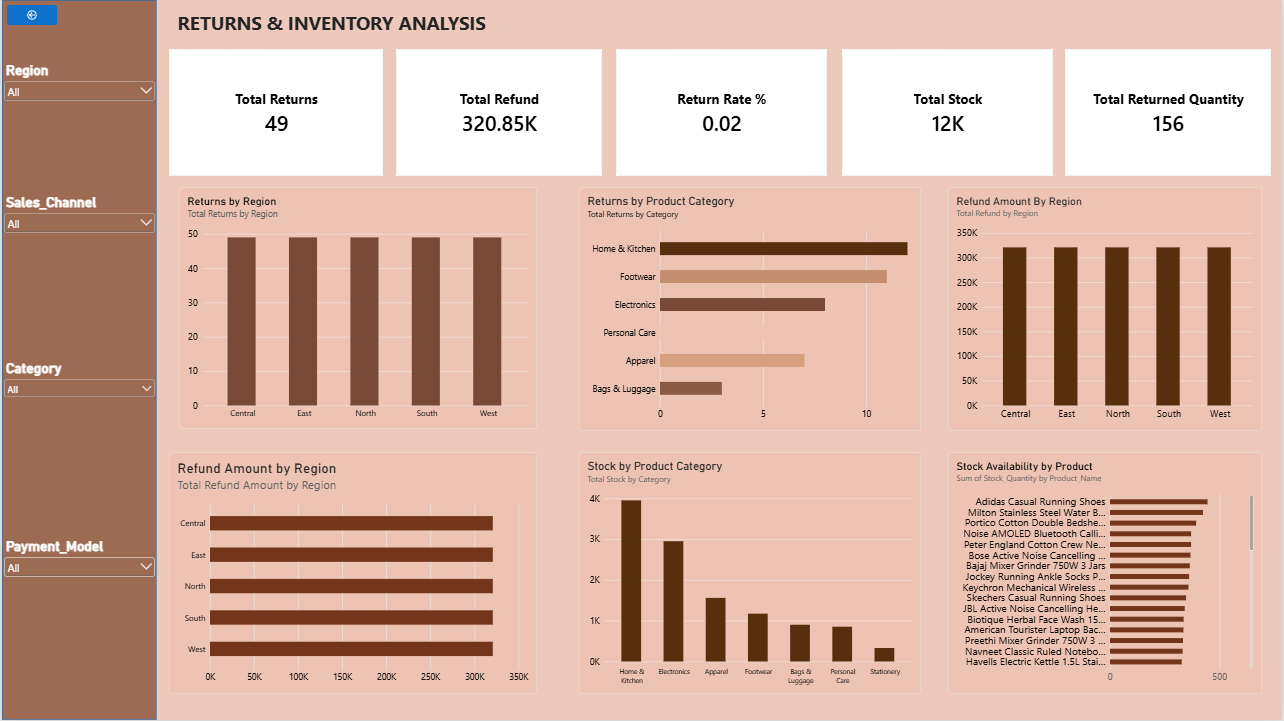

The dashboard page shown, as its layout file describes it:
{"tool":"powerbi","page":{"name":"Page 5","canvas":[2560,1440],"ordinal":4},"visuals":[{"type":"shape","box":[0,0,309.3,1439.5],"z":0},{"type":"actionButton","box":[10,10,100,40],"z":1},{"type":"textbox","box":[310,20,715,65],"z":2},{"type":"cardVisual","fields":{"Data":["Customer Data.Total Returns"]},"box":[334,98,428,254],"z":3},{"type":"cardVisual","fields":{"Data":["Customer Data.Total Refund"]},"box":[788,98,412,254],"z":4},{"type":"cardVisual","fields":{"Data":["Customer Data.Return Rate %"]},"box":[1228,98,422,254],"z":5},{"type":"cardVisual","fields":{"Data":["Customer Data.Total Stock"]},"box":[1680,98,422,254],"z":6},{"type":"cardVisual","fields":{"Data":["Customer Data.Total Returned Quantity"]},"box":[2126,98,412,254],"z":7},{"type":"barChart","title":"Returns by Product Category ","fields":{"Category":["Product Data.Category"],"Y":["Customer Data.Total Returns"]},"box":[1154,374,684,488],"z":8},{"type":"clusteredBarChart","title":"Refund Amount by Region ","fields":{"Category":["Orders Data.Region"],"Y":["Customer Data.Total Refund Amount"]},"box":[334,904,736,484],"z":9},{"type":"clusteredColumnChart","title":"Stock by Product Category ","fields":{"Category":["Product Data.Category"],"Y":["Customer Data.Total Stock"]},"box":[1154,904,684,484],"z":10},{"type":"clusteredColumnChart","title":"Refund Amount By Region  ","fields":{"Category":["Orders Data.Region"],"Y":["Customer Data.Total Refund"]},"box":[1892,374,628,488],"z":11},{"type":"clusteredColumnChart","title":"Returns by Region ","fields":{"Category":["Targets Data.Region"],"Y":["Customer Data.Total Returns"]},"box":[354,374,716,484],"z":12},{"type":"slicer","fields":{"Values":["Customer Data.Region"]},"box":[0,124,310,140],"z":13},{"type":"slicer","fields":{"Values":["Orders Data.Sales_Channel"]},"box":[0,388,310,140],"z":14},{"type":"slicer","fields":{"Values":["Product Data.Category"]},"box":[0,720,310,140],"z":15},{"type":"slicer","fields":{"Values":["Orders Data.Payment_Model"]},"box":[0,1076,310,140],"z":16},{"type":"barChart","title":"Stock Availability by Product ","fields":{"Category":["Product Data.Product_Name"],"Y":["Sum(Product Data.Stock_Quantity)"]},"box":[1892,904,628,484],"z":17}]}

Visuals, with their boxes in screenshot pixels (x1, y1, x2, y2), scaled from the page's 2560x1440 canvas onto the 1284x721 screenshot:
shape: 0, 0, 155, 720
actionButton: 5, 5, 55, 25
textbox: 155, 10, 514, 43
cardVisual - Customer Data.Total Returns: 168, 49, 382, 176
cardVisual - Customer Data.Total Refund: 395, 49, 602, 176
cardVisual - Customer Data.Return Rate %: 616, 49, 828, 176
cardVisual - Customer Data.Total Stock: 843, 49, 1054, 176
cardVisual - Customer Data.Total Returned Quantity: 1066, 49, 1273, 176
"Returns by Product Category " barChart: 579, 187, 922, 432
"Refund Amount by Region " clusteredBarChart: 168, 453, 537, 695
"Stock by Product Category " clusteredColumnChart: 579, 453, 922, 695
"Refund Amount By Region  " clusteredColumnChart: 949, 187, 1264, 432
"Returns by Region " clusteredColumnChart: 178, 187, 537, 430
slicer - Customer Data.Region: 0, 62, 155, 132
slicer - Orders Data.Sales_Channel: 0, 194, 155, 264
slicer - Product Data.Category: 0, 360, 155, 431
slicer - Orders Data.Payment_Model: 0, 539, 155, 609
"Stock Availability by Product " barChart: 949, 453, 1264, 695
